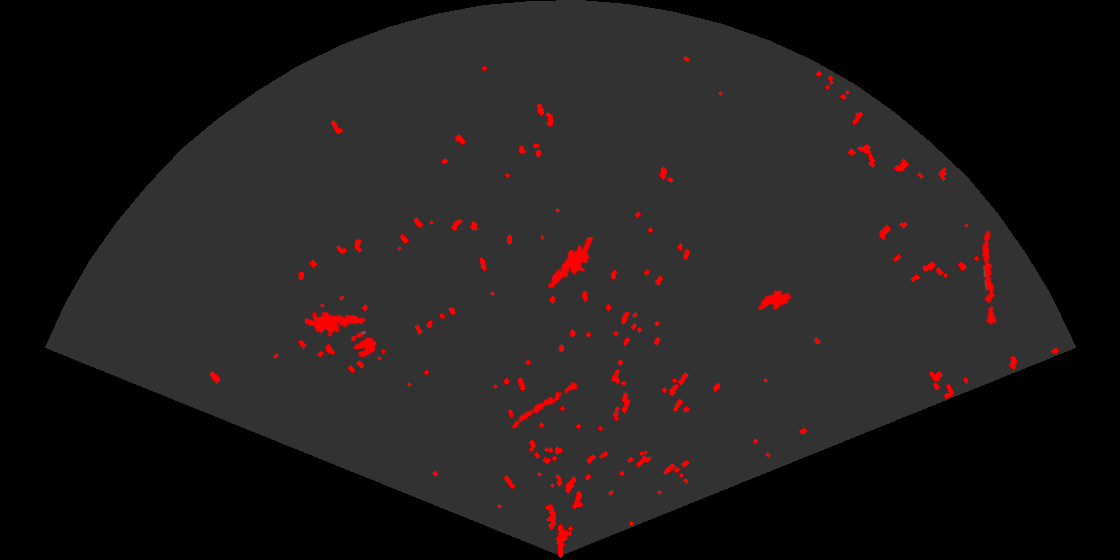AUV: (756, 288, 793, 312)
ball: (349, 329, 378, 359)
chain: (510, 378, 583, 430), (980, 228, 998, 326)
frogman: (546, 237, 595, 290), (305, 310, 368, 338)
